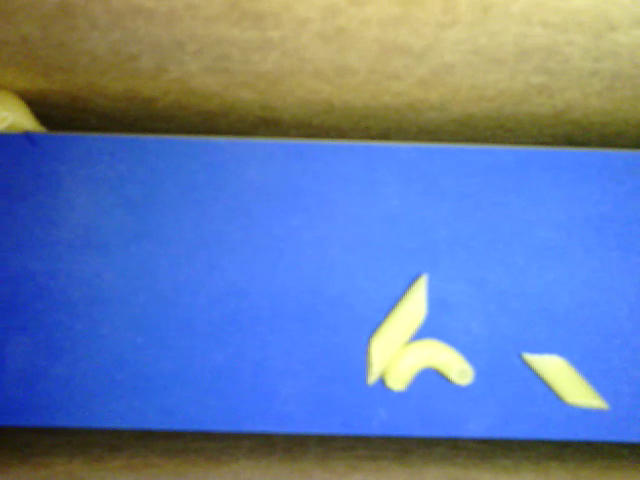elbow: (382, 338, 475, 391)
penne: (365, 270, 430, 383), (520, 353, 611, 410)
shell: (1, 87, 47, 131)
